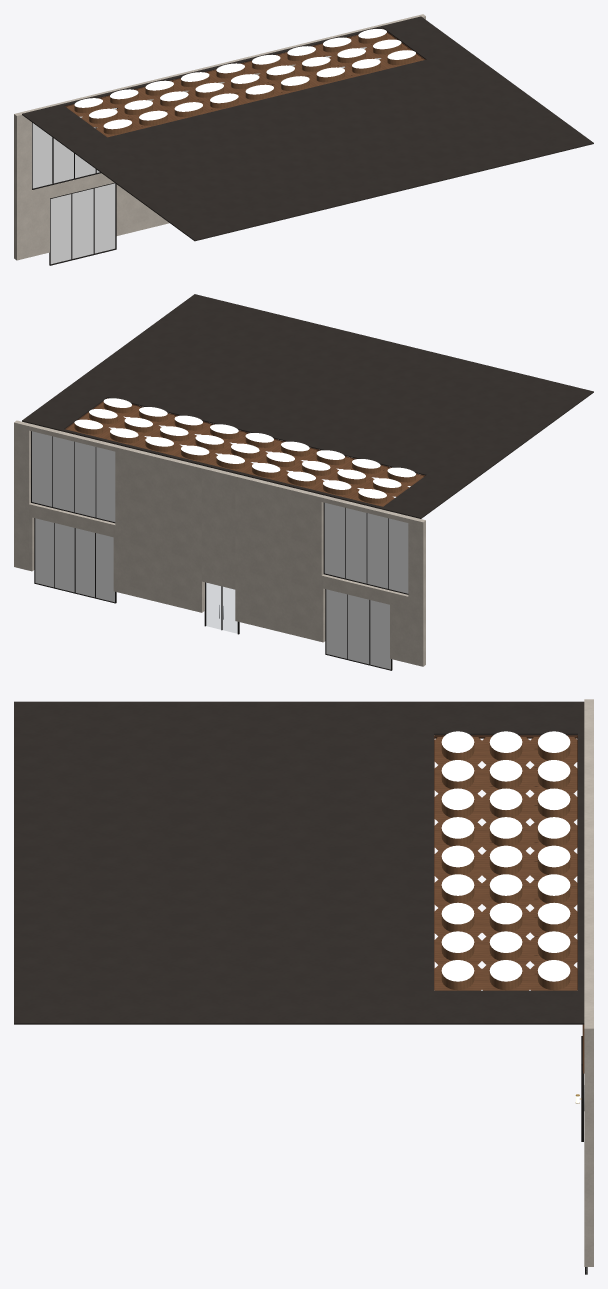
The model's file is ceiling.glb.
3 renders of one model, top to bottom at view 1: azimuth 30°, elevation 25°; view 2: azimuth 150°, elevation 25°; view 3: azimuth 270°, elevation 25°, orthographic. The views are drawn at different scales.
Parts seen in each view (by area): view 1: hq_ceiling, hq_windows_front; view 2: hq_ceiling, hq_windows_front; view 3: hq_ceiling.
Part boxes in pixels (x1,y1,x2,y2): hq_ceiling: [14, 14, 593, 265]; hq_windows_front: [32, 47, 381, 264]; hq_ceiling: [14, 294, 593, 670]; hq_windows_front: [32, 431, 408, 670]; hq_ceiling: [14, 699, 593, 1274].
Size of the model in its own units: 24.6 by 9.46 by 18.3.
Materials: 7 (2 with a texture image).
